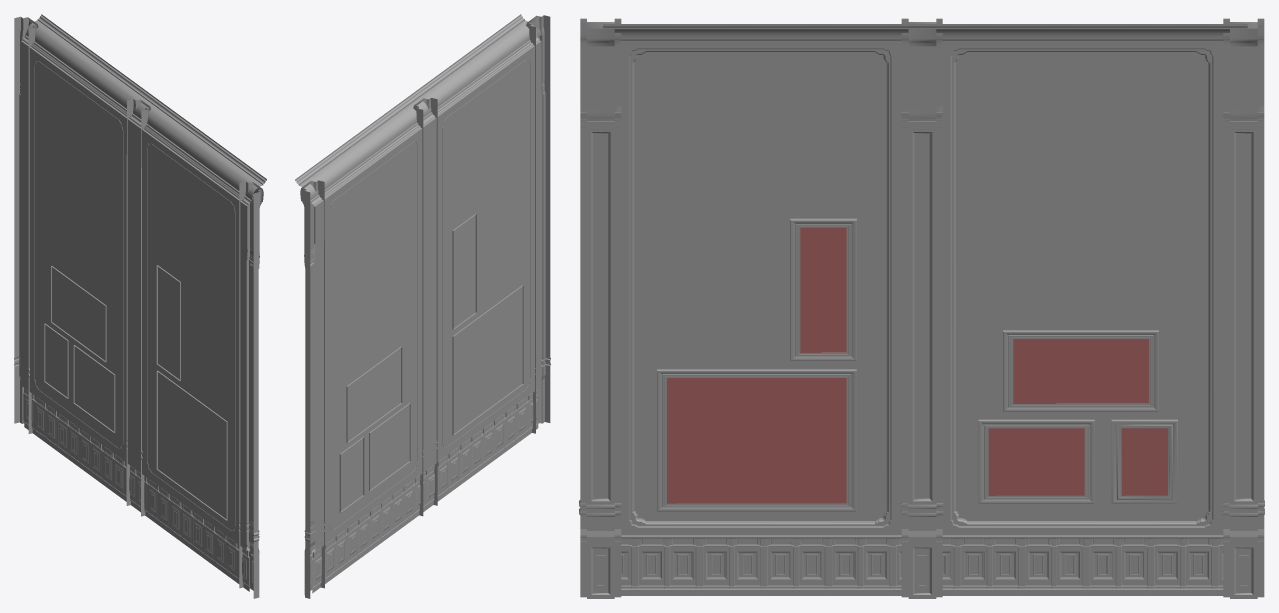
File: SM_WallModkit.fbx
3 renders of one model, left to right at view 1: azimuth 30°, elevation 25°; view 2: azimuth 150°, elevation 25°; view 3: azimuth 270°, elevation 25°, orthographic. The views are drawn at different scales.
Parts seen in each view (by area): view 1: wall, wall_decor, crown_Molding, wainscotting, frame4, frame3, frame2, frame5; view 2: wall, wall_decor, crown_Molding, wainscotting, frame4, frame3, frame5; view 3: wall, wall_decor, wainscotting, frame4, frame5, crown_Molding, frame2, frame3, frame1.
Part boxes in pixels (bbox=[...]): wall: bbox=[21, 41, 246, 550]; wall_decor: bbox=[14, 16, 263, 598]; crown_Molding: bbox=[21, 14, 266, 205]; wainscotting: bbox=[23, 388, 250, 591]; frame4: bbox=[156, 370, 227, 520]; frame3: bbox=[156, 265, 180, 380]; frame2: bbox=[73, 345, 115, 432]; frame5: bbox=[51, 266, 106, 362]; wall: bbox=[315, 41, 541, 551]; wall_decor: bbox=[300, 15, 550, 598]; crown_Molding: bbox=[295, 14, 540, 206]; wainscotting: bbox=[311, 389, 538, 593]; frame4: bbox=[452, 285, 523, 435]; frame3: bbox=[452, 214, 476, 329]; frame5: bbox=[346, 346, 402, 442]; wall: bbox=[634, 52, 1207, 520]; wall_decor: bbox=[579, 18, 1264, 598]; wainscotting: bbox=[621, 535, 1223, 595]; frame4: bbox=[657, 369, 856, 511]; frame5: bbox=[1003, 330, 1158, 411]; crown_Molding: bbox=[603, 24, 1247, 40]; frame2: bbox=[978, 419, 1094, 503]; frame3: bbox=[790, 218, 856, 360]; frame1: bbox=[1111, 419, 1177, 503].
Bounding box in the file's own units: 50.52 × 928 × 987.
